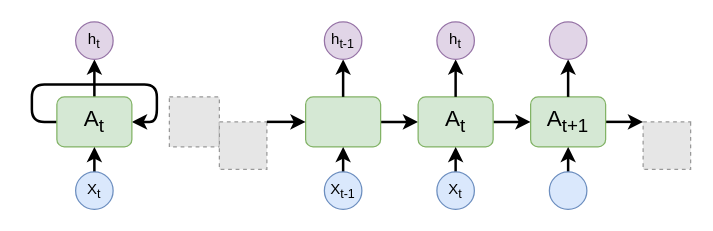
Some shapes in this 713 by 231 pixel diagram are drawn without their labels. Grey dashed boxes stand in for pictures. Here are the shapes that lost their labels. From the top down, the centre of each, then its label:
At point 567,40: "h t+1".
At point 342,121: "A t-1".
At point 567,190: "X t+1".
